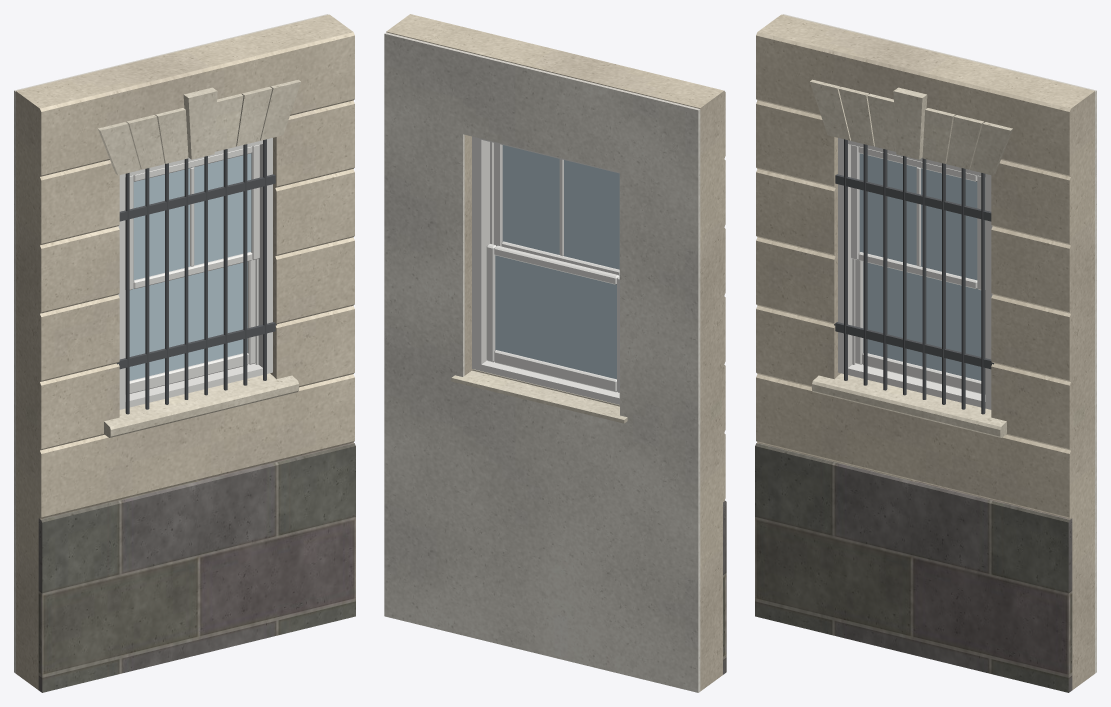
File: g_wall_window.glb
The picture shows the model from 3 angles, left to right: view 1: azimuth 30°, elevation 25°; view 2: azimuth 150°, elevation 25°; view 3: azimuth 330°, elevation 25°; orthographic projection.
Parts seen in each view (by area): view 1: g_wall_window_rust, g_wall_window_plinth, g_wall_window_glass, g_wall_window_trim, g_wall_window_iron, g_wall_window_sash, g_wall_window_frame, g_wall_window_plaster; view 2: g_wall_window_plaster, g_wall_window_rust, g_wall_window_glass, g_wall_window_sash, g_wall_window_frame, g_wall_window_trim, g_wall_window_plinth; view 3: g_wall_window_rust, g_wall_window_plinth, g_wall_window_glass, g_wall_window_trim, g_wall_window_iron, g_wall_window_sash, g_wall_window_frame, g_wall_window_plaster.
Boxes of the visible parts, left/top/right/bottom form: g_wall_window_rust: left=16, top=14, right=354, bottom=689; g_wall_window_plinth: left=38, top=442, right=355, bottom=692; g_wall_window_glass: left=129, top=153, right=251, bottom=380; g_wall_window_trim: left=98, top=79, right=300, bottom=437; g_wall_window_iron: left=117, top=139, right=276, bottom=414; g_wall_window_sash: left=125, top=144, right=259, bottom=394; g_wall_window_frame: left=118, top=138, right=272, bottom=409; g_wall_window_plaster: left=14, top=14, right=328, bottom=673; g_wall_window_plaster: left=384, top=32, right=700, bottom=692; g_wall_window_rust: left=386, top=14, right=725, bottom=691; g_wall_window_glass: left=495, top=145, right=619, bottom=379; g_wall_window_sash: left=486, top=143, right=619, bottom=392; g_wall_window_frame: left=472, top=136, right=619, bottom=404; g_wall_window_trim: left=451, top=369, right=627, bottom=423; g_wall_window_plinth: left=723, top=500, right=726, bottom=674; g_wall_window_rust: left=756, top=14, right=1094, bottom=689; g_wall_window_plinth: left=755, top=442, right=1072, bottom=692; g_wall_window_glass: left=859, top=153, right=981, bottom=380; g_wall_window_trim: left=810, top=79, right=1012, bottom=437; g_wall_window_iron: left=834, top=139, right=993, bottom=414; g_wall_window_sash: left=851, top=144, right=985, bottom=394; g_wall_window_frame: left=838, top=138, right=992, bottom=409; g_wall_window_plaster: left=782, top=14, right=1096, bottom=673.
Bounding box in the file's own units: 2 × 3.55 × 0.415.
Materials: 8 (4 with a texture image).
